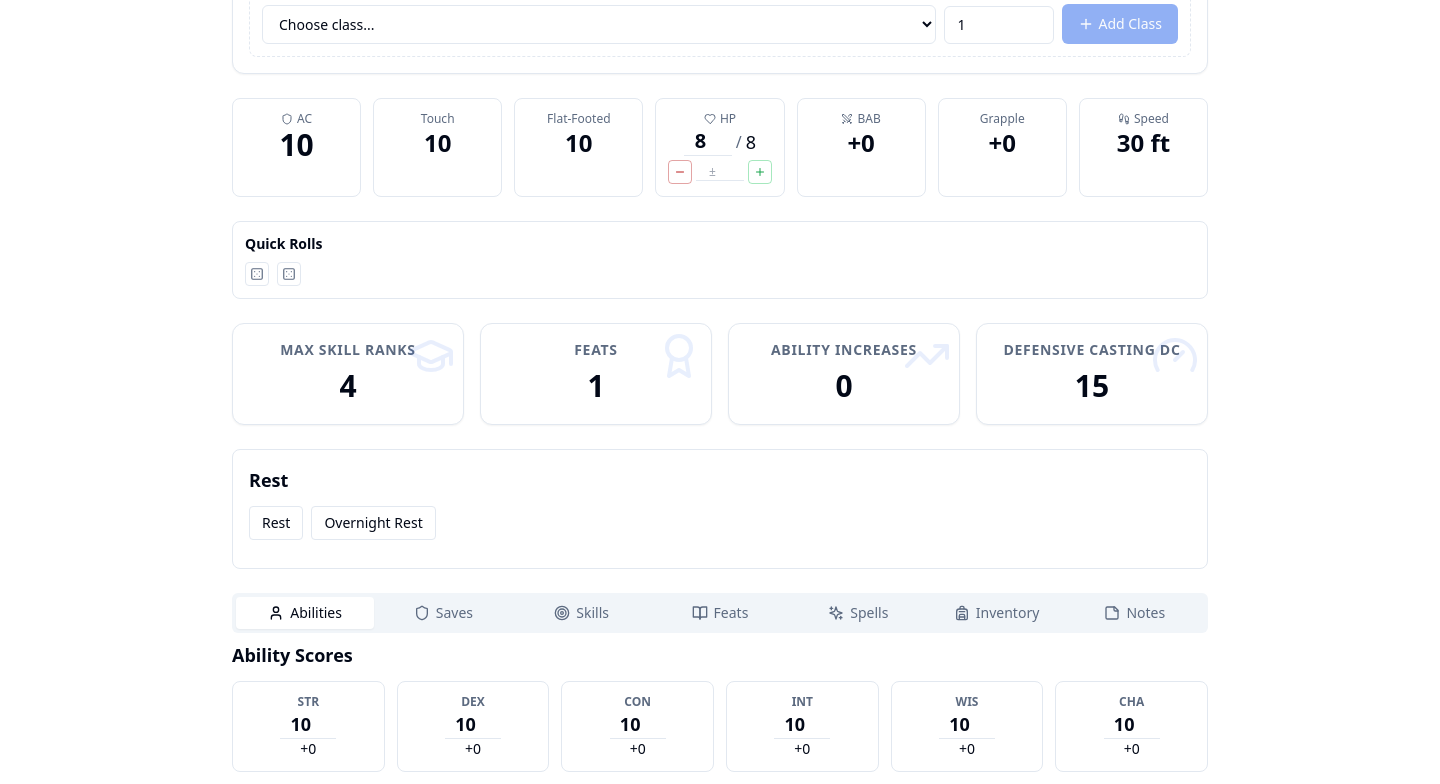
Test: System Sheets › hosts no spell, feat, or equipment browser tab, but still loads the spell catalog
The width and height of the screenshot is (1440, 784).
(page scrolled)
Click the tab "Spells".
click(858, 613)  # box [789, 597, 927, 629]
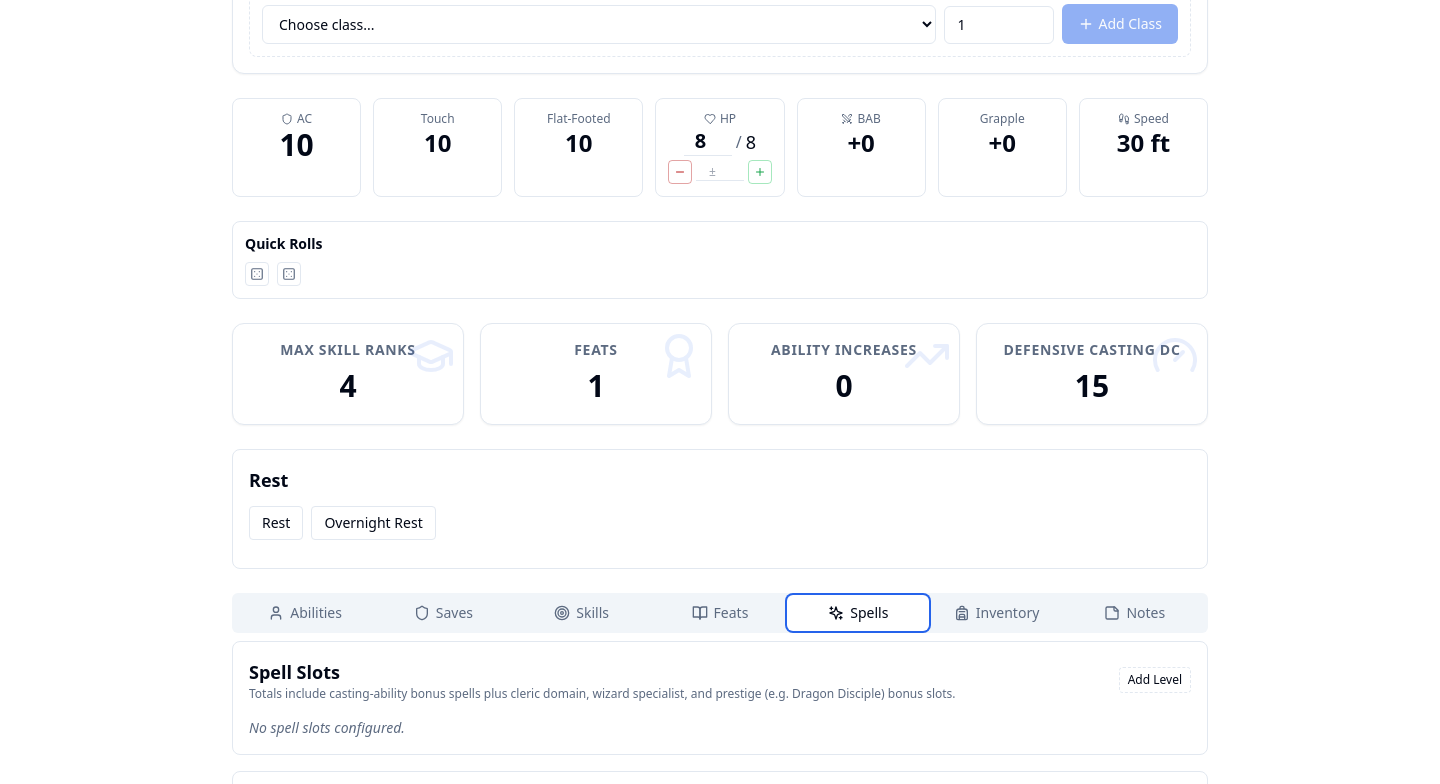
Click the tab "Inventory".
click(997, 613)  # box [927, 597, 1066, 629]
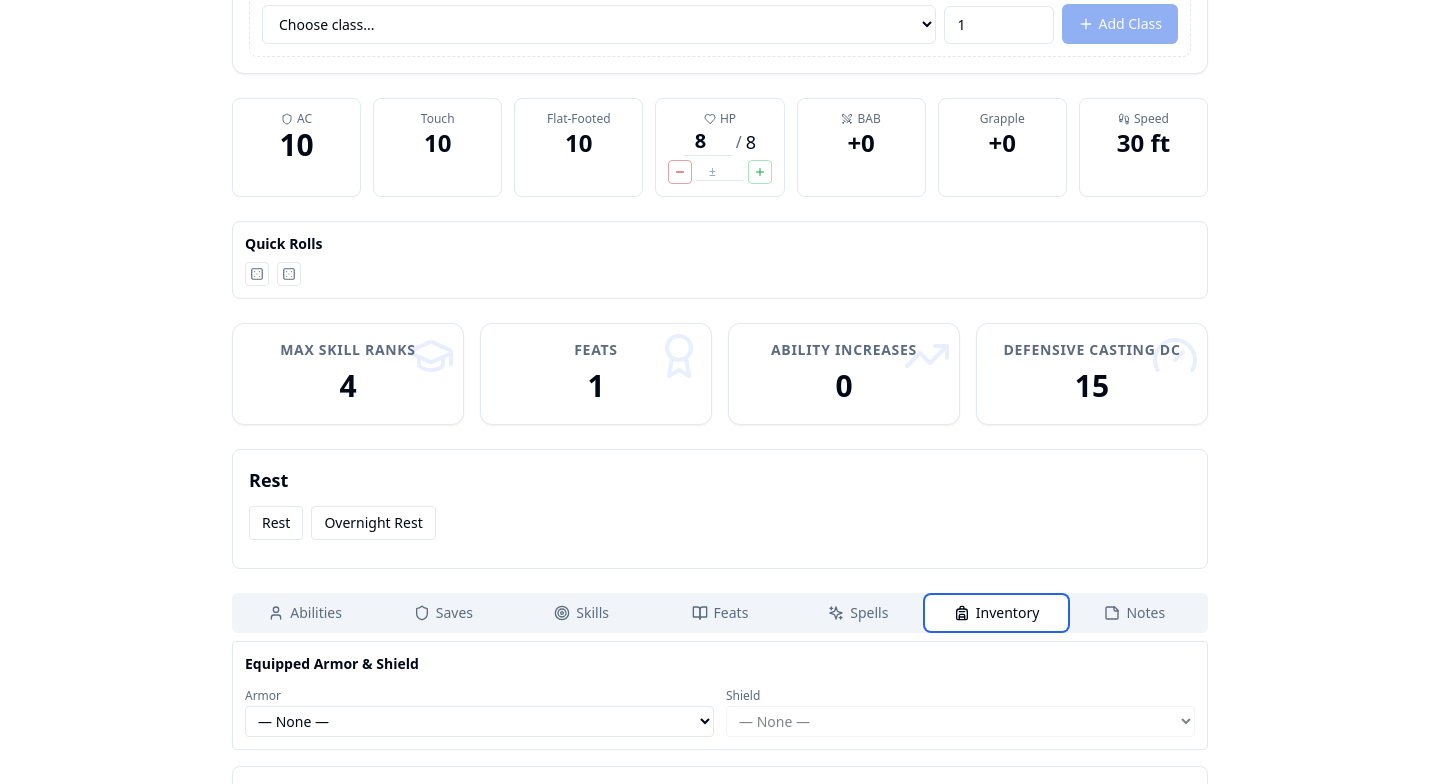
Expected: the heading "Equipped Armor & Shield" is shown, [245, 654, 419, 673]
